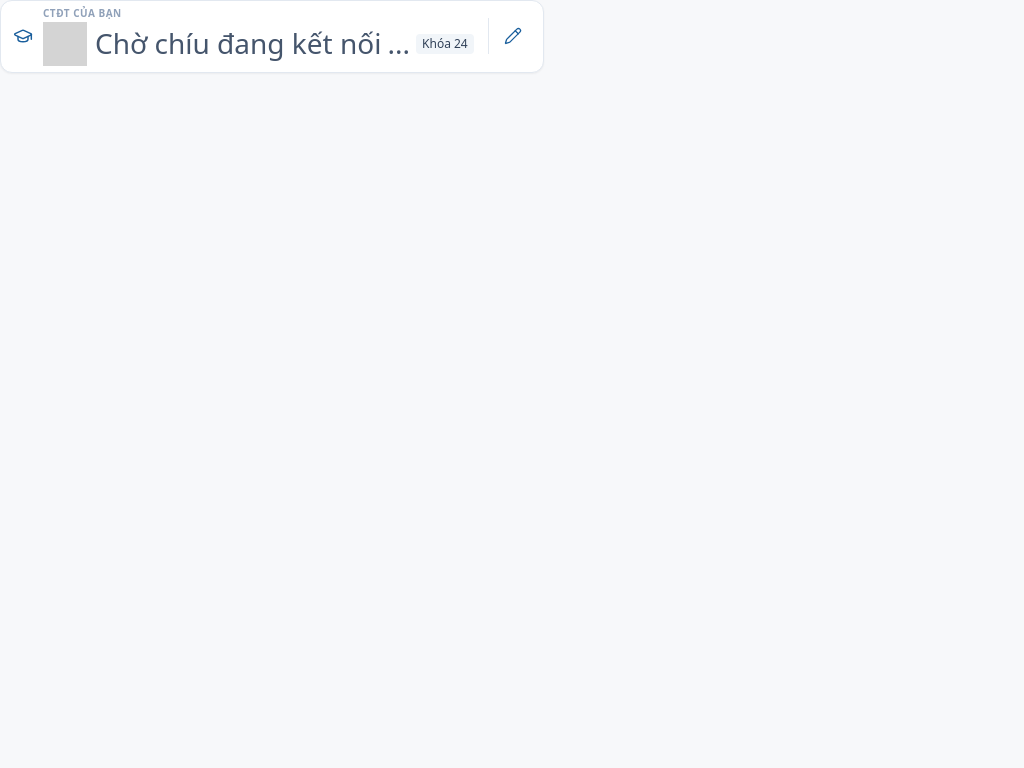
Test: Brief W16: ProgramFilterBar component tests › 5. Bấm nút 'Đổi' -> mở hộp thoại pop-up (role='dialog'), URL không đổi; lưu mã mới cập nhật thanh tức thì
The image size is (1024, 768).
Bấm nút Đổi
Click the button named "Đổi" at (513, 36), box [495, 18, 531, 54]
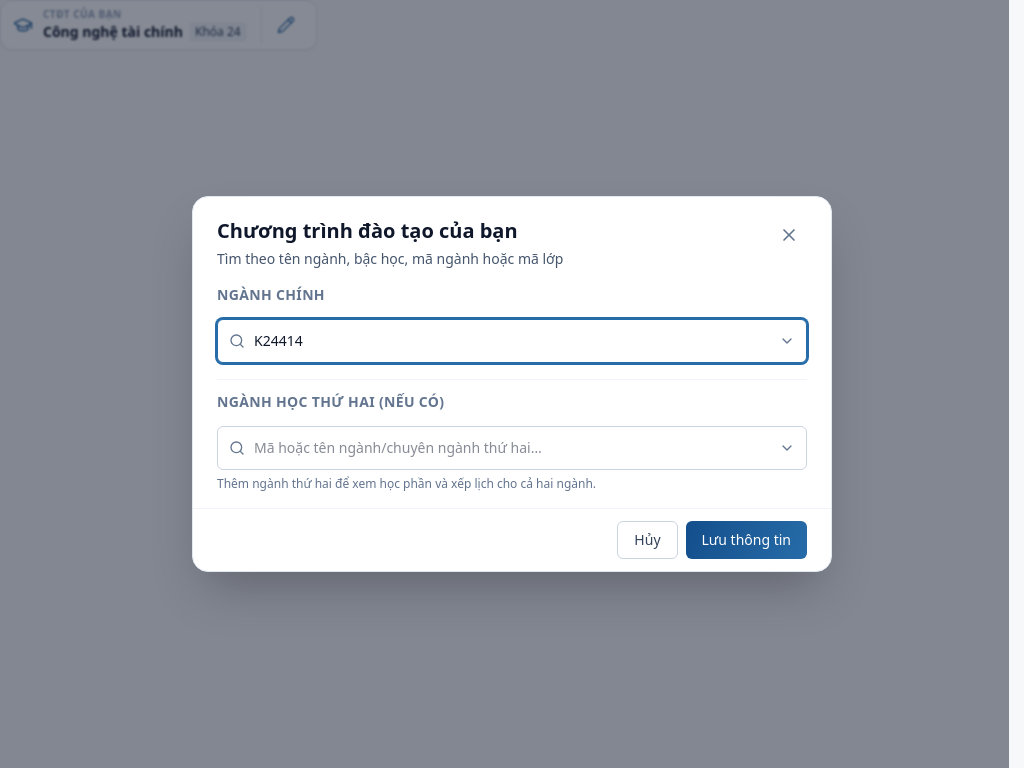
Now the dialog is shown, box [192, 196, 832, 572]
Nhập mã lớp mới K23406 vào ô ngành chính
Replace the text in the field labelled "Ngành chính" with "K23406" at (512, 341), box [217, 319, 807, 363]
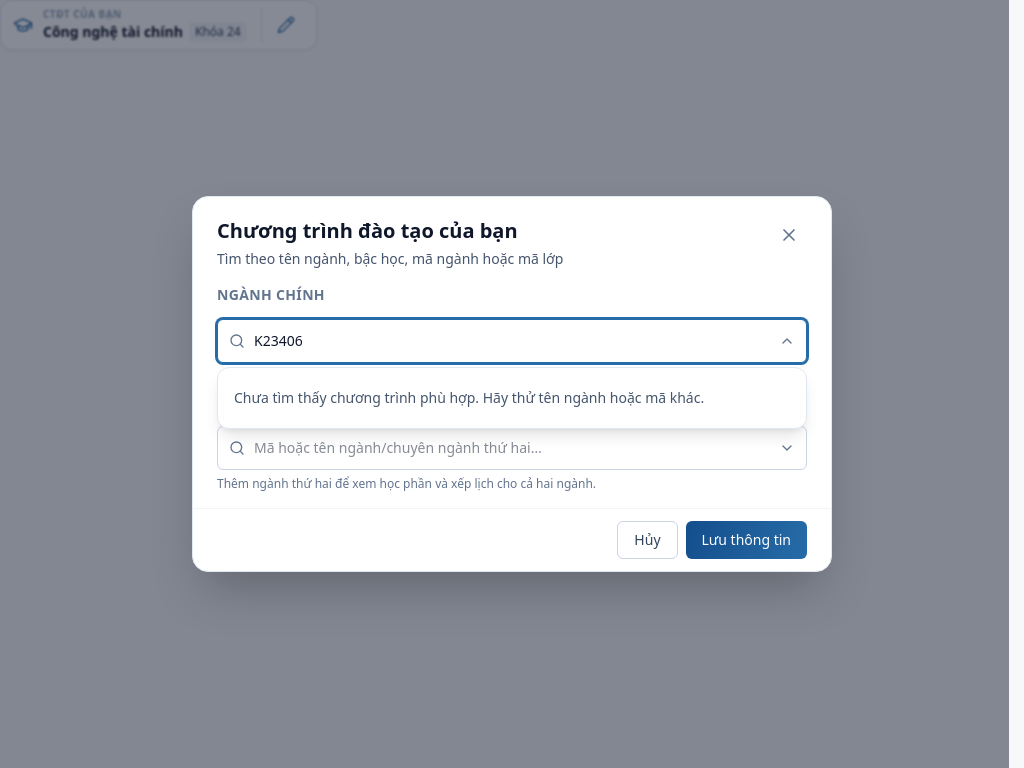
 Bấm Lưu
Click the button "Lưu thông tin" at (746, 540), box [686, 521, 807, 559]
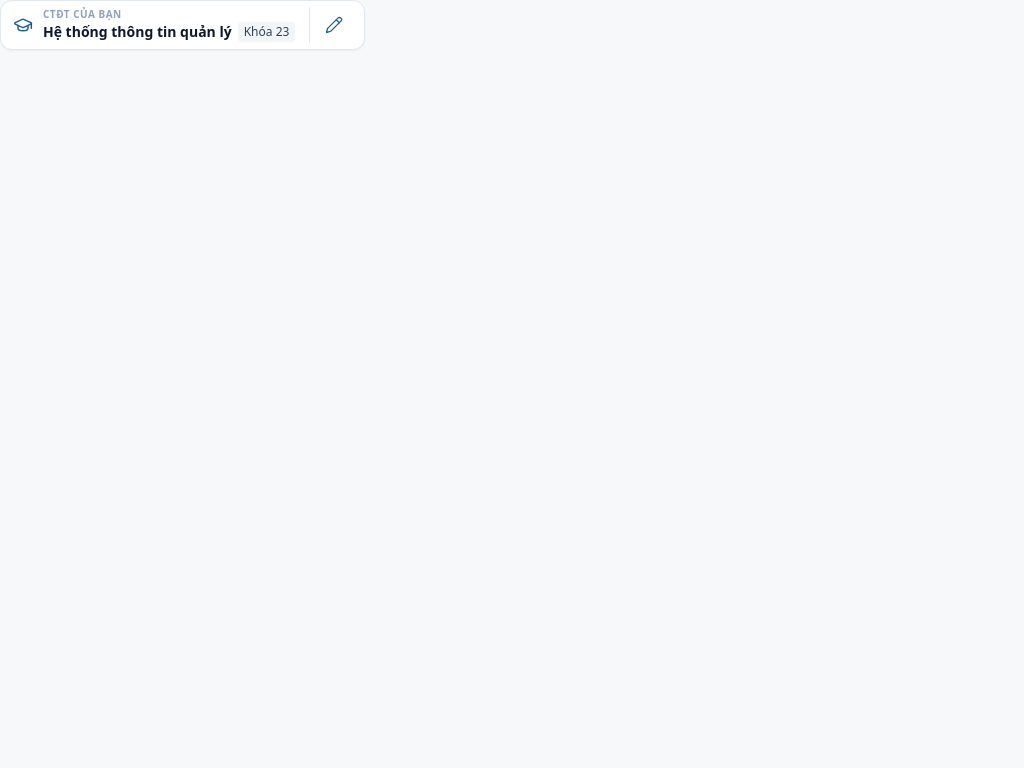
Now the dialog is gone
Now the text "Hệ thống thông tin quản lý" is shown, box [43, 22, 232, 42]
Now the text "Khóa 23" is shown, box [238, 22, 295, 42]
